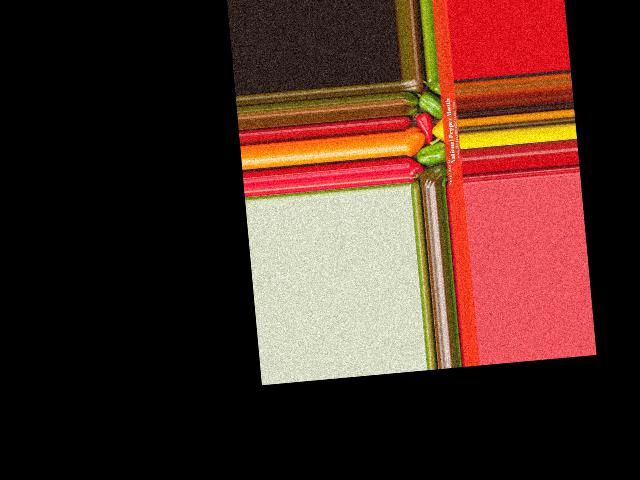bell_pepper: (418, 164, 448, 188)
